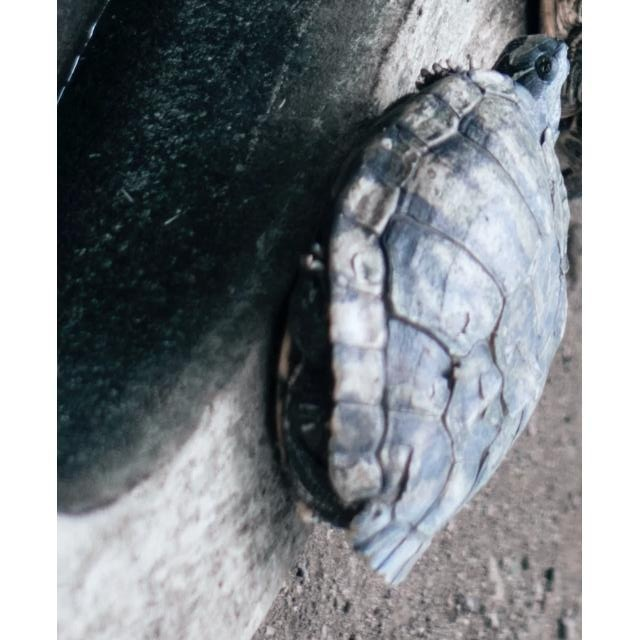turtle: (272, 33, 573, 587)
